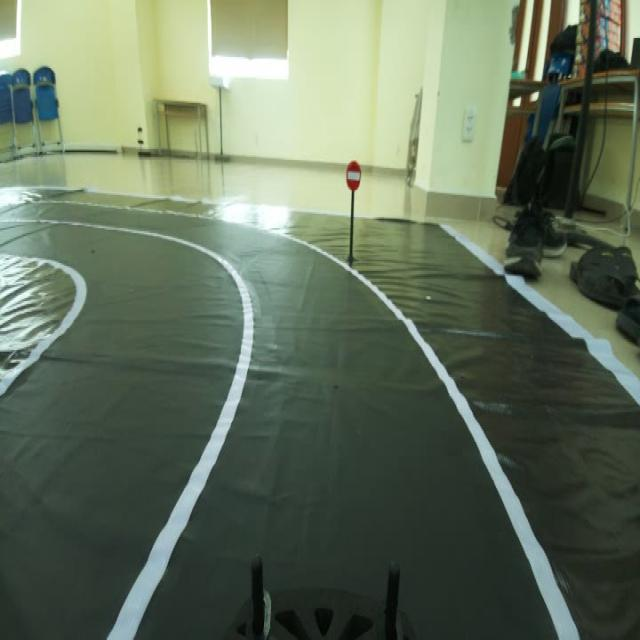no_entry: (342, 151, 365, 198)
